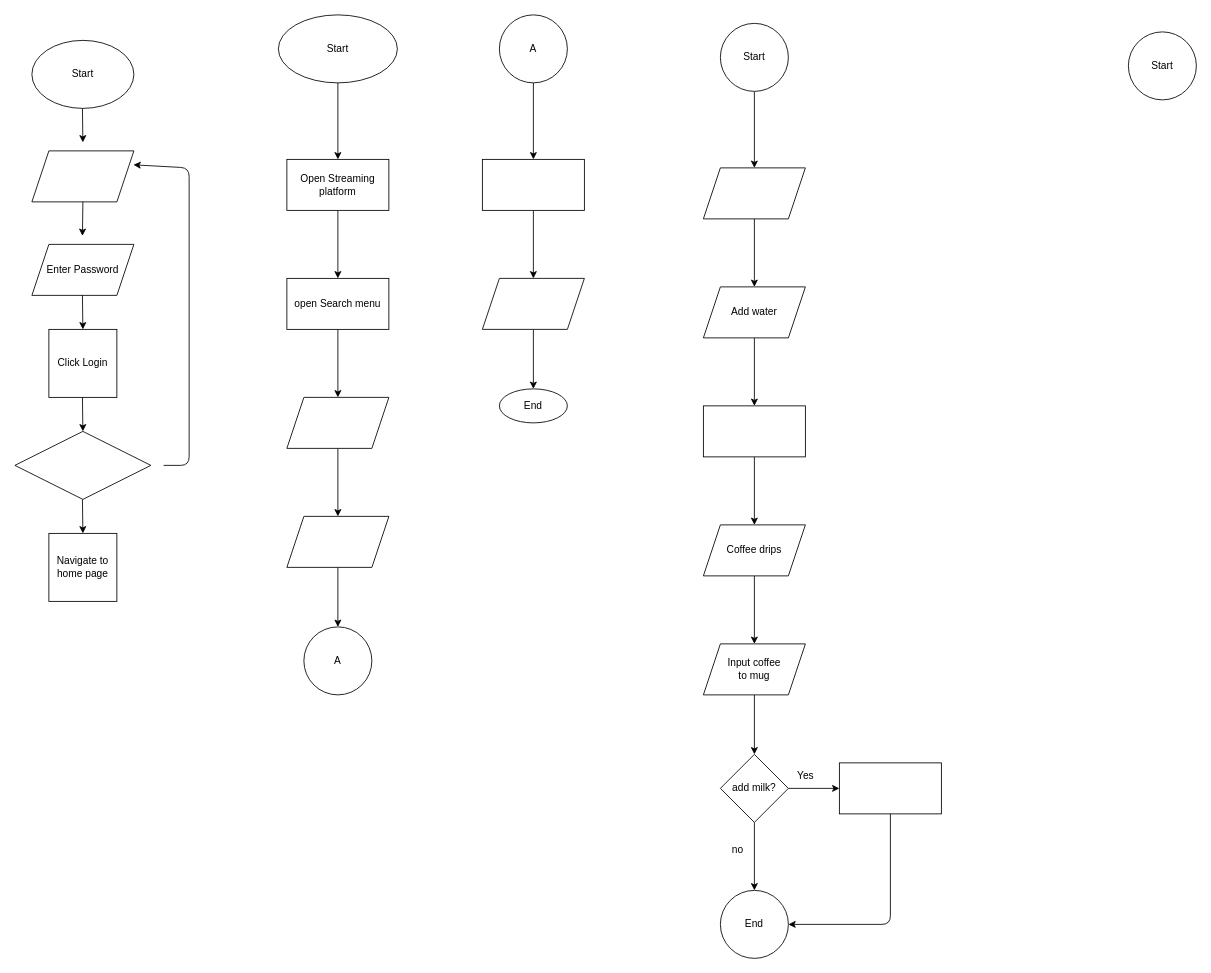
This 1211x973 diagram has some shape labels left out. The box of each missing label's shape, as (x1, y1, x2, y2) in pixels:
Add coffee grounds: (703, 167, 805, 219)
Add milk: (839, 762, 941, 814)
Checks for Valid creds.: (14, 431, 151, 499)
Coffee brews: (703, 405, 805, 457)
Enter Username: (31, 150, 134, 202)
Get input: (286, 397, 389, 448)
Present search result: (482, 278, 584, 329)
Press Search: (286, 516, 389, 567)
Search Database: (482, 159, 584, 210)
